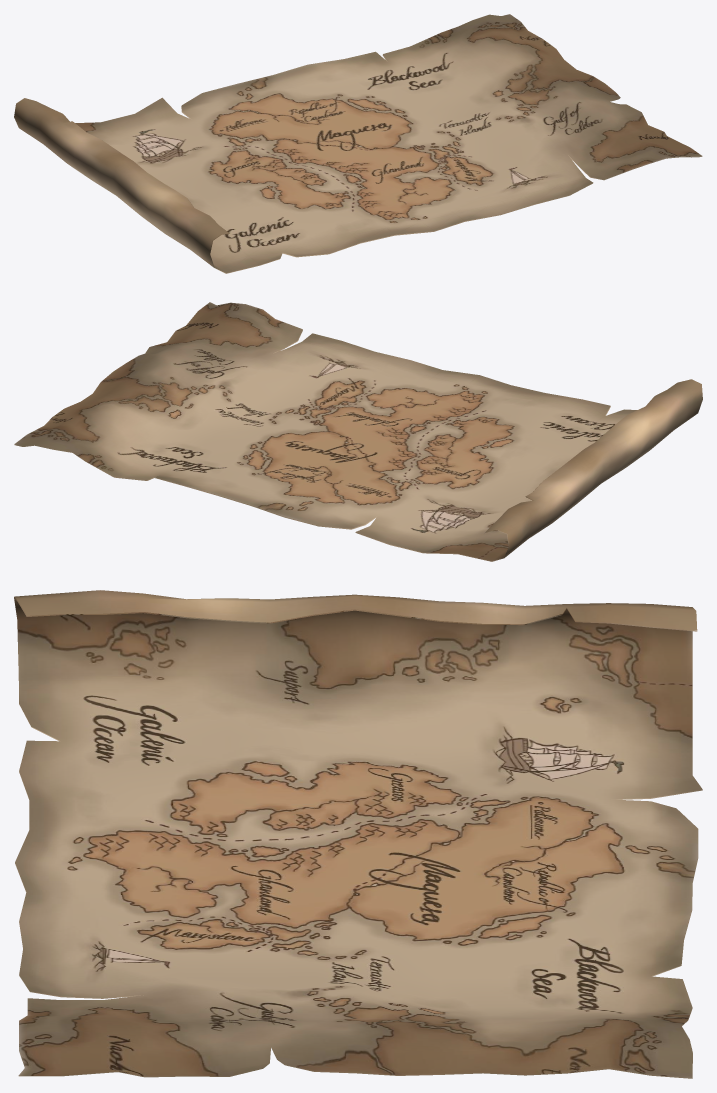
The model's file is SM_Map_Wall_01.fbx.
3 renders of one model, top to bottom at view 1: azimuth 30°, elevation 25°; view 2: azimuth 150°, elevation 25°; view 3: azimuth 270°, elevation 25°, orthographic. The views are drawn at different scales.
Visible parts, largest first — view 1: Plane, Plane.001; view 2: Plane, Plane.001; view 3: Plane, Plane.001.
Boxes of the visible parts, <box> form: Plane: <box>36,14,702,273</box>; Plane.001: <box>14,55,701,273</box>; Plane: <box>14,302,636,561</box>; Plane.001: <box>15,330,702,561</box>; Plane: <box>14,597,702,1078</box>; Plane.001: <box>14,590,702,1078</box>.
Bounding box in the file's own units: 403 × 39.75 × 280.
Materials: 2 (2 with a texture image).
